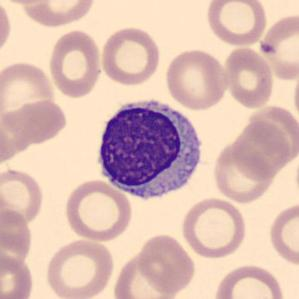Lymphocyte: (90, 92, 208, 205)
RBC: (62, 177, 135, 242), (178, 195, 248, 261), (43, 237, 116, 299), (163, 47, 231, 111), (46, 28, 104, 99), (211, 141, 276, 204), (99, 25, 162, 87), (111, 249, 188, 299), (135, 232, 197, 294), (229, 119, 291, 181), (0, 59, 57, 126), (222, 45, 276, 110), (246, 104, 299, 167), (3, 97, 69, 145), (203, 0, 268, 48), (257, 11, 298, 83), (210, 261, 287, 299), (0, 166, 46, 228), (16, 0, 97, 29), (266, 199, 299, 268), (0, 206, 34, 272), (0, 252, 35, 299), (0, 0, 13, 61), (291, 64, 299, 124), (0, 0, 55, 6)
